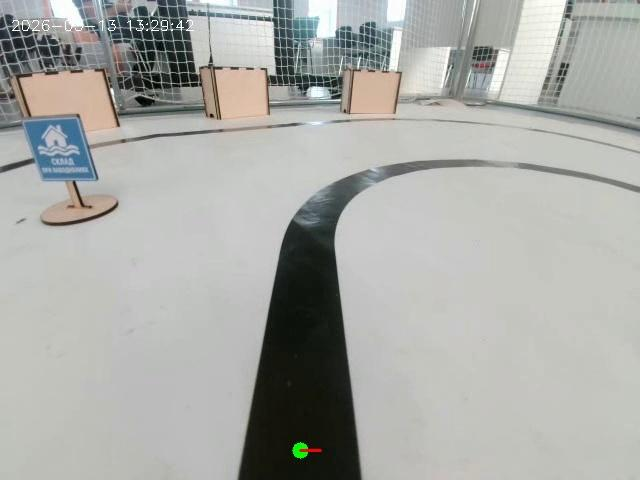flood: (13, 104, 113, 196)
